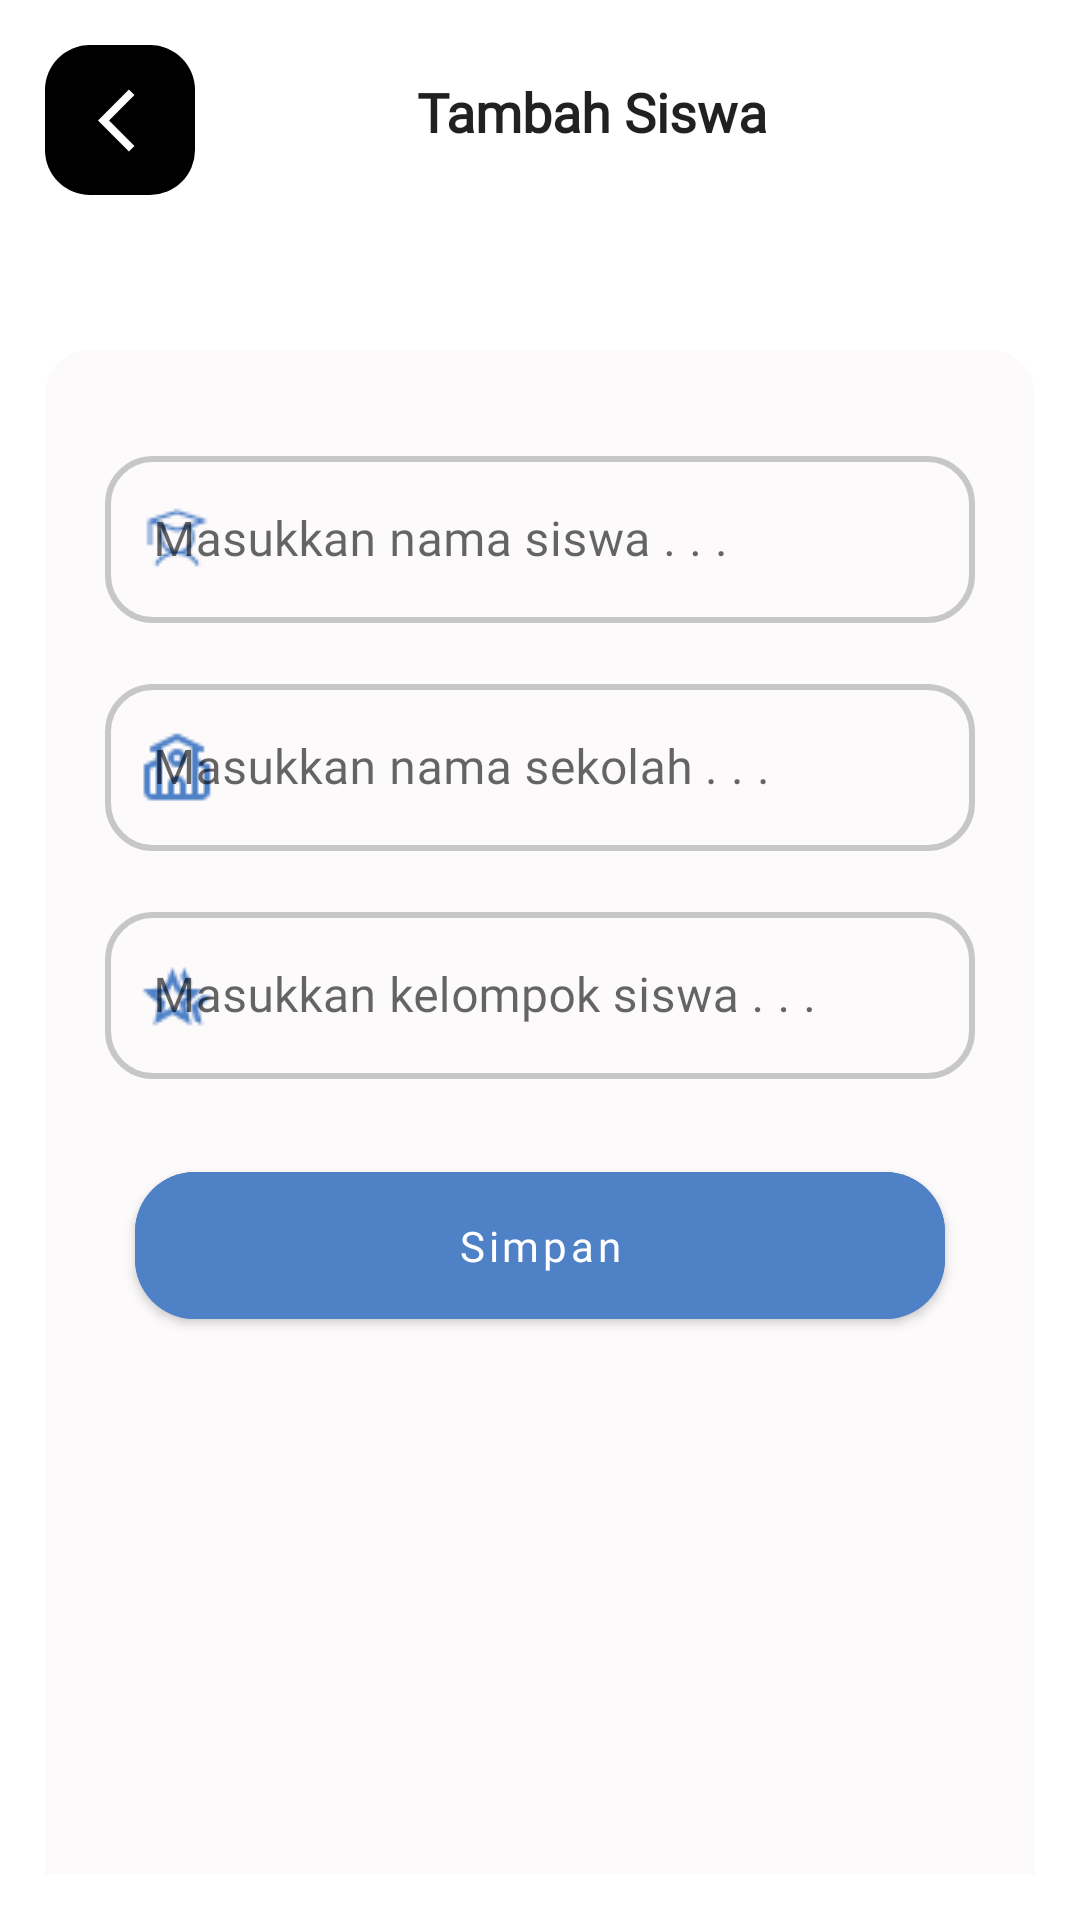

Icons on this 1080x1920 Android screen, each with its box as (x1, y1, x2, y2):
back: (98, 89, 135, 152)
